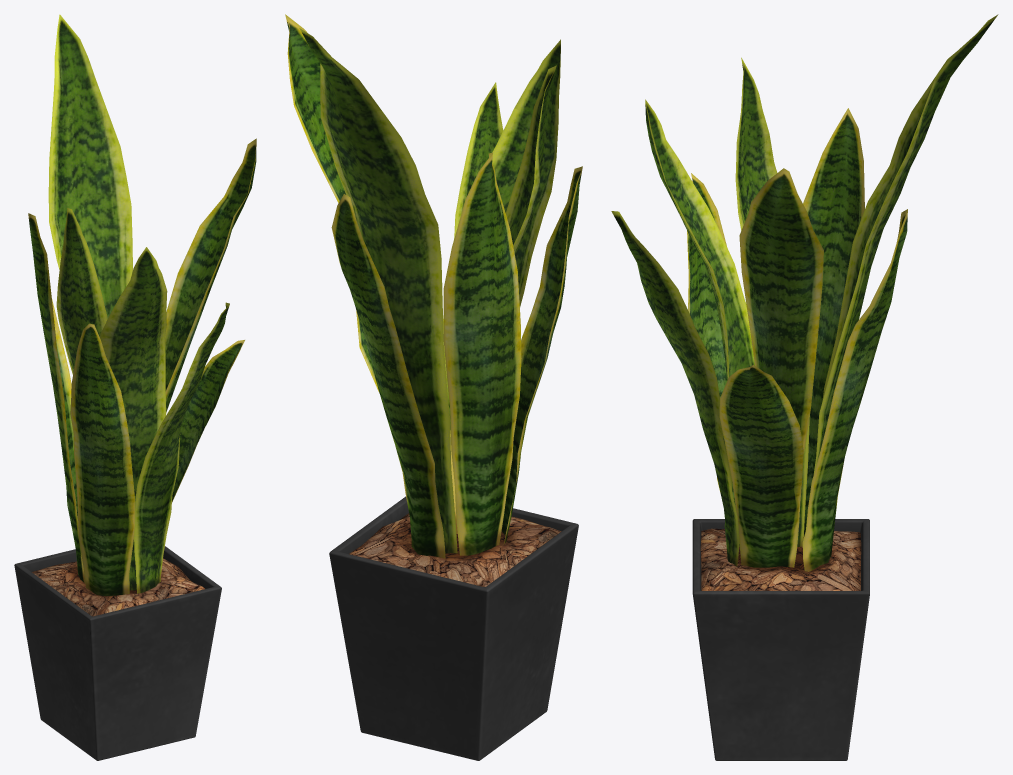
File: BP_RoomPlantsSet01_SansevieriaA.fbx
The picture shows the model from 3 angles, left to right: view 1: azimuth 30°, elevation 25°; view 2: azimuth 150°, elevation 25°; view 3: azimuth 270°, elevation 25°; orthographic projection. The views are drawn at different scales.
Visible parts, largest first — view 1: Ha, Hachi, Ha_ura, Kokofiber; view 2: Ha, Hachi, Ha_ura, Kokofiber; view 3: Ha, Hachi, Ha_ura, Kokofiber.
Boxes of the visible parts, x1,y1,x2,y2 form: Ha: [28, 14, 256, 596]; Hachi: [14, 546, 221, 760]; Ha_ura: [28, 16, 256, 595]; Kokofiber: [32, 558, 204, 616]; Ha: [285, 14, 582, 558]; Hachi: [329, 496, 578, 760]; Ha_ura: [286, 16, 581, 557]; Kokofiber: [349, 513, 561, 586]; Ha: [611, 15, 997, 571]; Hachi: [692, 519, 869, 760]; Ha_ura: [612, 17, 995, 571]; Kokofiber: [700, 528, 861, 590].
Bounding box in the file's own units: 11.38 × 33.27 × 15.8.
